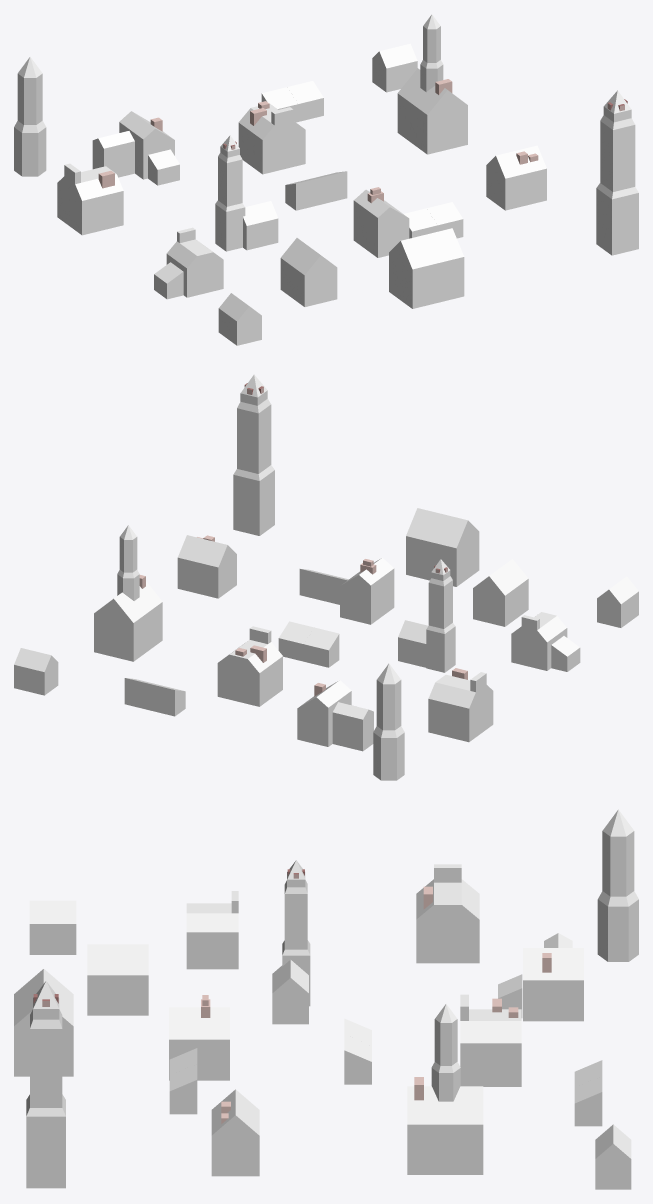
Rendered from District.fbx.
3 renders of one model, top to bottom at view 1: azimuth 30°, elevation 25°; view 2: azimuth 150°, elevation 25°; view 3: azimuth 270°, elevation 25°, orthographic. The views are drawn at different scales.
Visible parts, largest first — view 1: Cube.048; view 2: Cube.048; view 3: Cube.048.
Boxes of the visible parts, bbox=[...] form: Cube.048: bbox=[14, 14, 638, 345]; Cube.048: bbox=[14, 374, 638, 780]; Cube.048: bbox=[14, 809, 638, 1189].
Bounding box in the file's own units: 3351 × 1229 × 3495.
